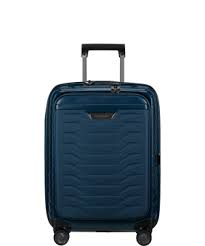suitcase: (43, 44, 161, 246)
